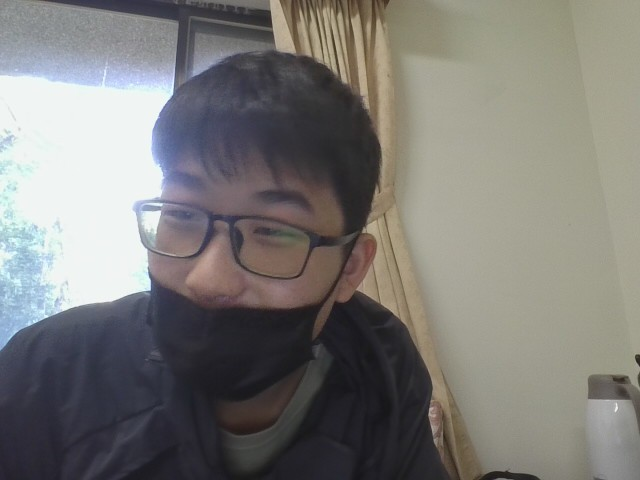No_Helmet: (133, 42, 390, 321)
person: (0, 34, 554, 480)
